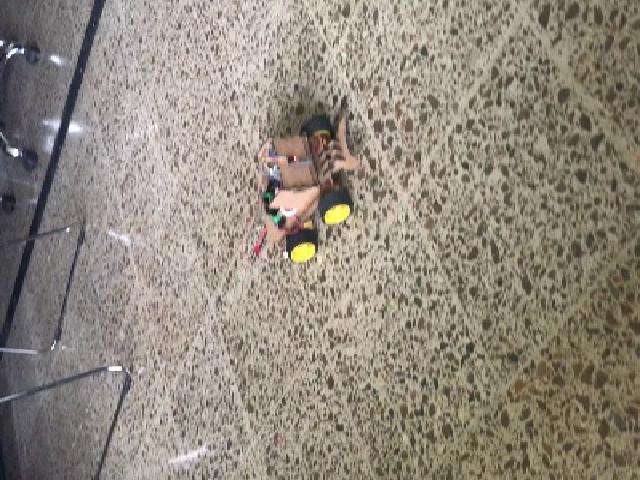Robot: (250, 115, 362, 264)
